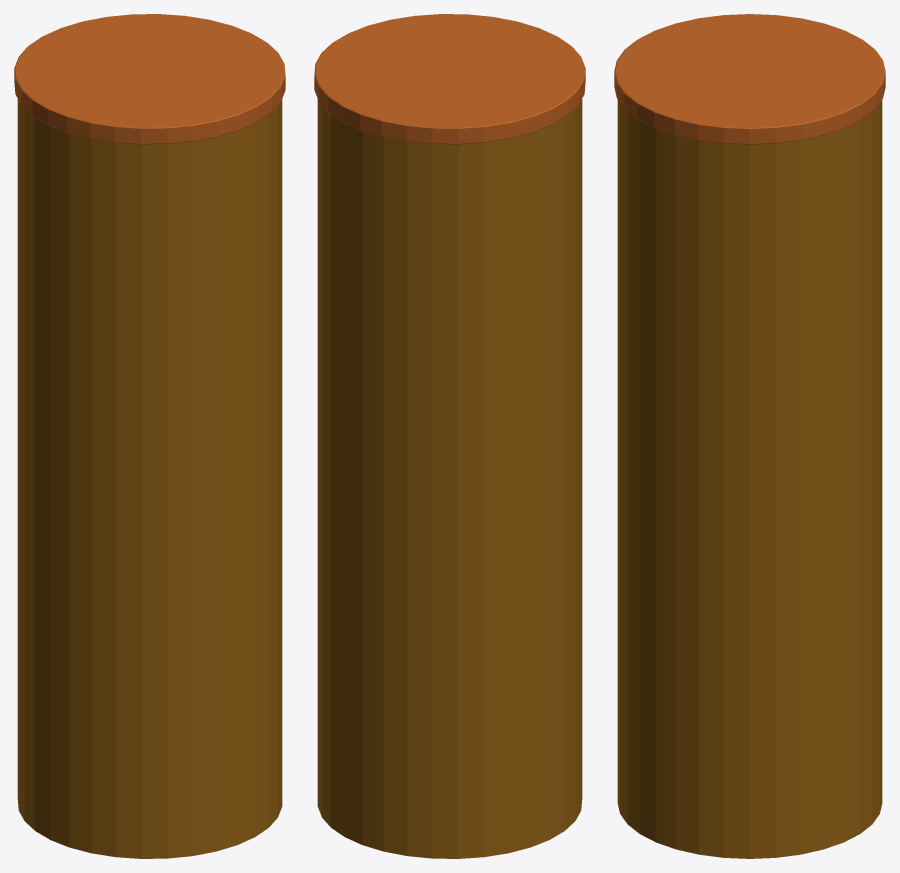
File: Floor Cylinder2.fbx
3 views of the same model, side by side, from view 1: azimuth 30°, elevation 25°; view 2: azimuth 150°, elevation 25°; view 3: azimuth 270°, elevation 25° (orthographic).
Visible parts, largest first — view 1: Floor Cylinder; view 2: Floor Cylinder; view 3: Floor Cylinder.
Boxes of the visible parts, x1,y1,x2,y2 form: Floor Cylinder: (14,14,285,858); Floor Cylinder: (314,14,585,858); Floor Cylinder: (614,14,885,858).
Bounding box in the file's own units: 2000 × 5950 × 2000.
